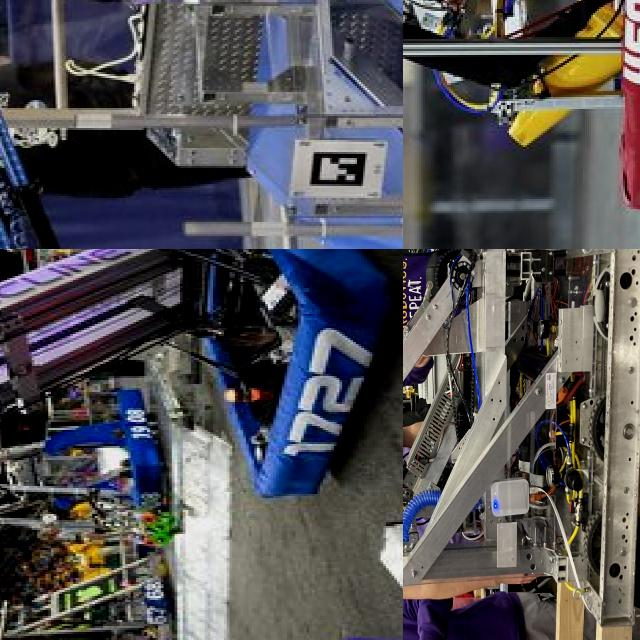FRC-Robots: (0, 249, 366, 510), (403, 249, 640, 640), (403, 0, 640, 249), (0, 133, 403, 249)
